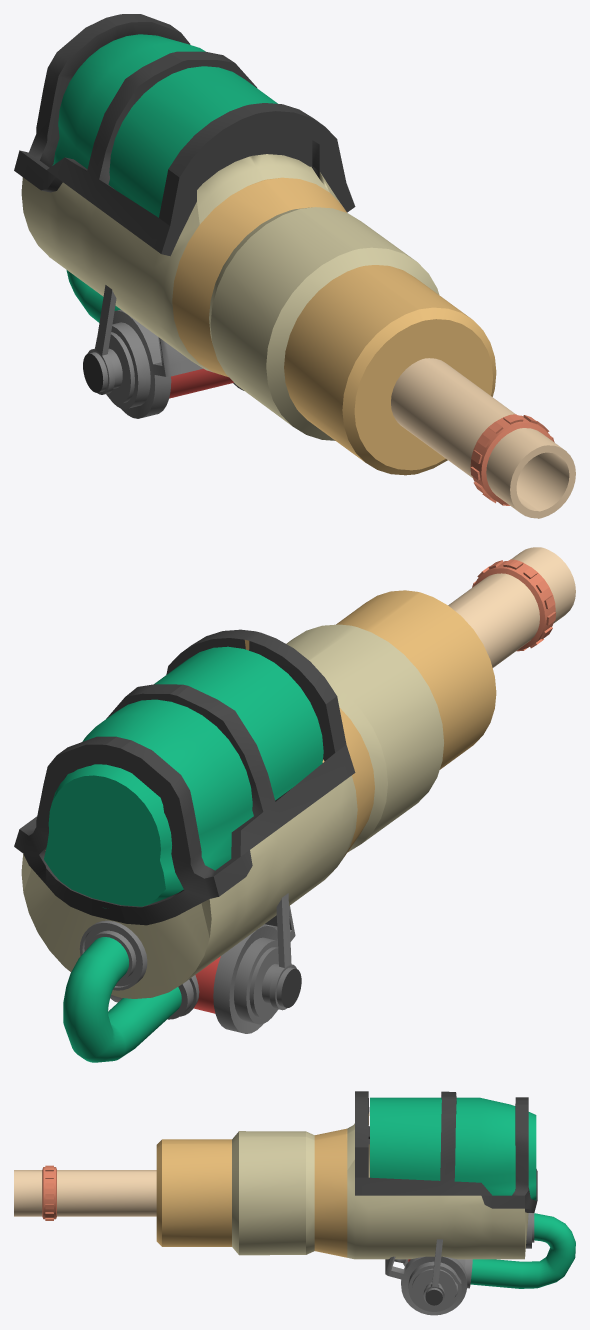
File: Canon_Low2.fbx
3 renders of one model, top to bottom at view 1: azimuth 30°, elevation 25°; view 2: azimuth 150°, elevation 25°; view 3: azimuth 270°, elevation 25°, orthographic. The views are drawn at different scales.
Parts seen in each view (by area): view 1: Canon.001; view 2: Canon.001; view 3: Canon.001.
Boxes of the visible parts, x1,y1,x2,y2 form: Canon.001: (14, 14, 575, 518); Canon.001: (14, 547, 575, 1062); Canon.001: (14, 1091, 575, 1315).
Size of the model in its own units: 5 by 19.7 by 7.74.
